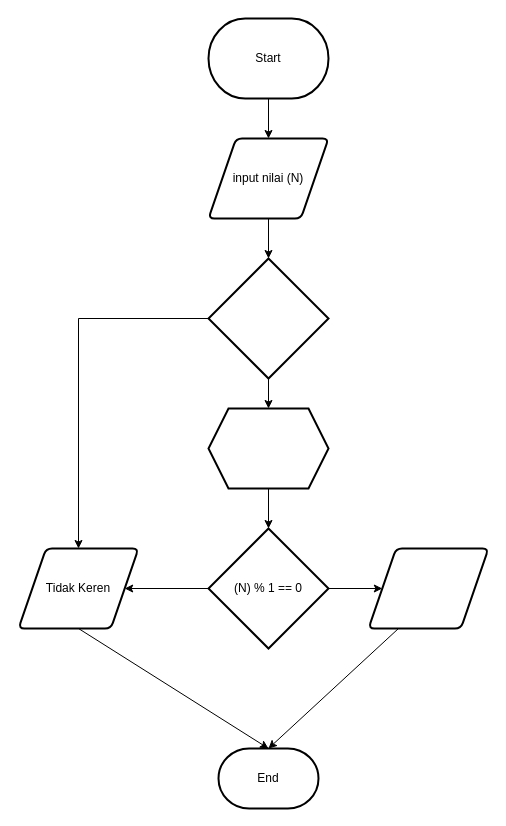
The diagram is 506 pixels wide and 826 high, and some of its shapes have lost their labels. The centre of each missing label's shape, as x and y in pixels:
(N) <= 1: the point at 268,318
i = 2 to N: the point at 268,448
Keren: the point at 428,588
